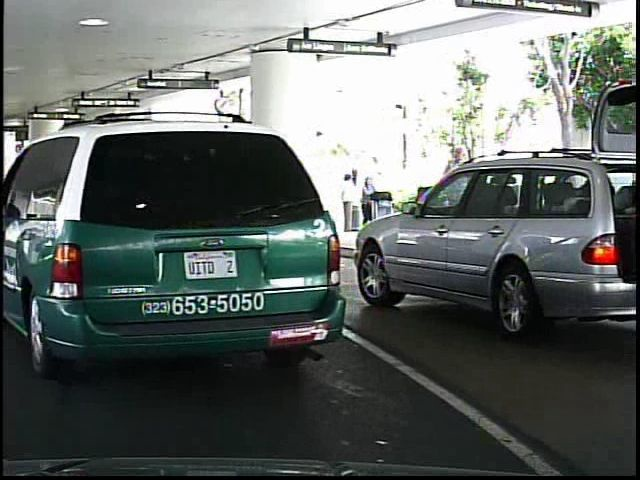person: (434, 140, 478, 264), (354, 171, 385, 241)
